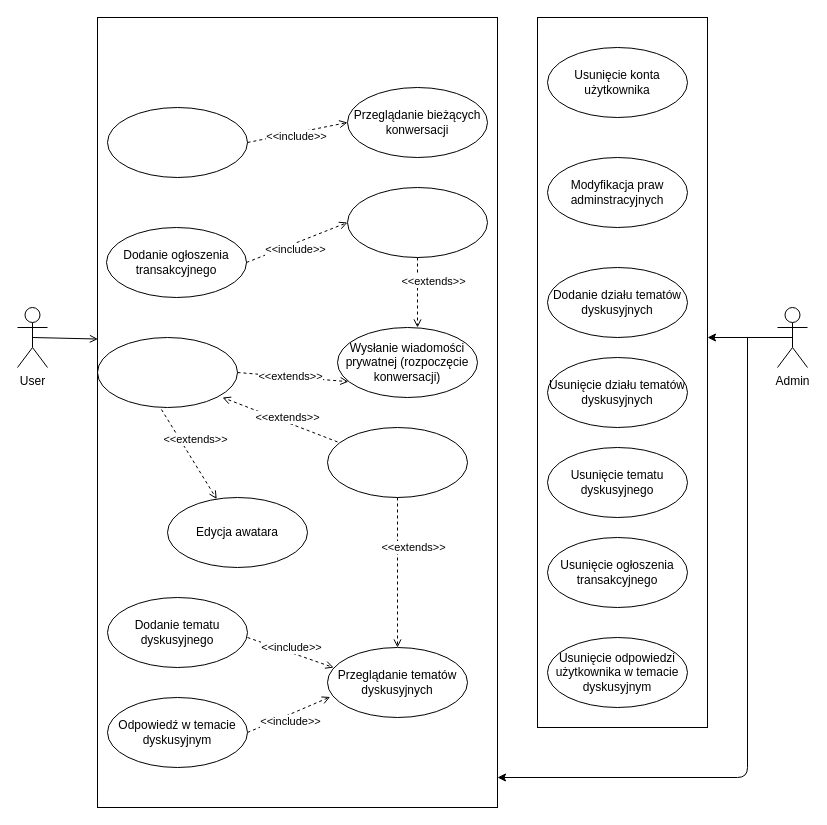
This 827x825 diagram has some shape labels left out. Each missing label, with the centre of its shape:
Odpowiedź w prywatnej konwersacji: the point at 177,142
Przeglądanie ogłoszeń transakcyjnych: the point at 417,222
Przeglądanie profilu użytkownika: the point at 167,372
Wyszukiwanie zawartości na forum (pole "szukaj"): the point at 397,462
